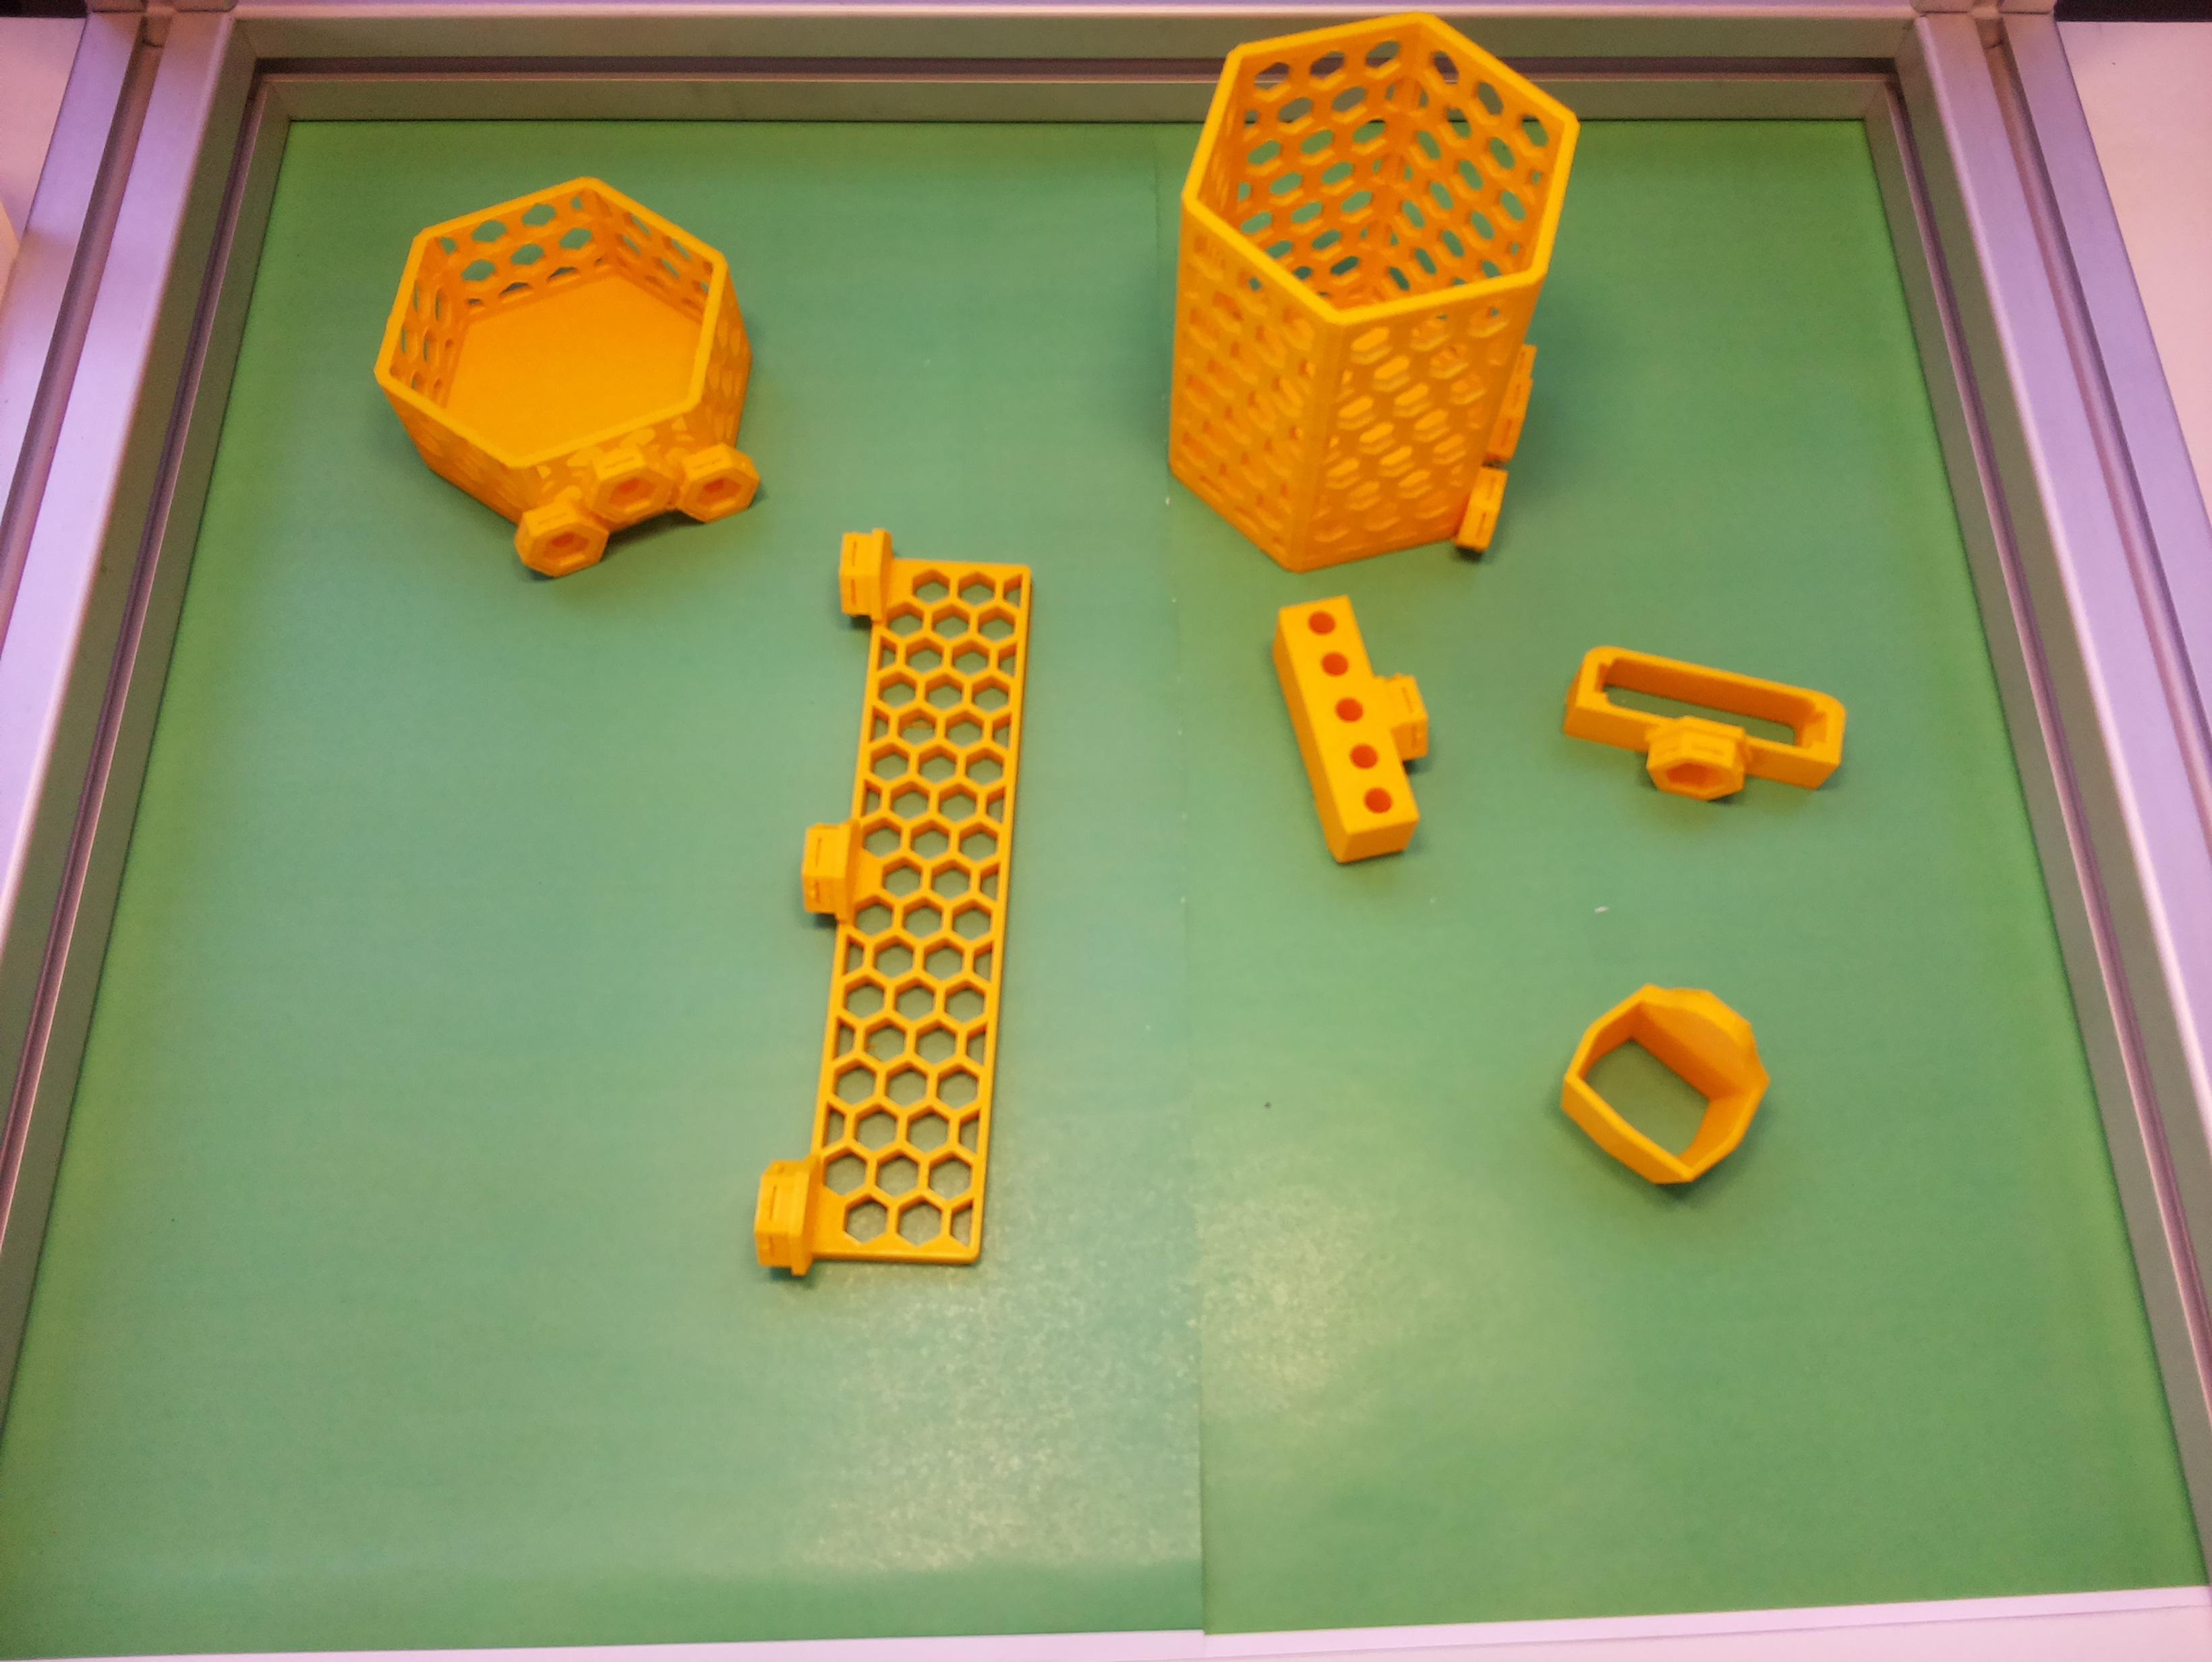bit_holder: (1264, 583, 1454, 869), (1447, 501, 1501, 564)
bottle_holder: (337, 141, 803, 611)
cutter_holder: (1552, 641, 1852, 826)
scissor_holder: (1536, 948, 1798, 1210)
tool_holder: (751, 524, 1044, 1292)
